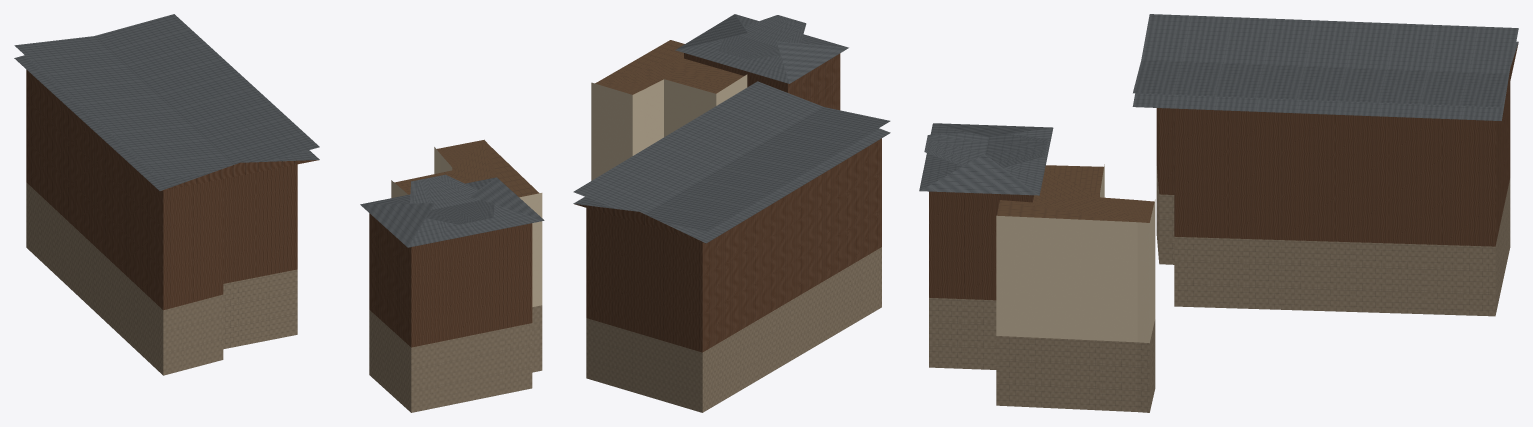
Rendered from bld_c33_-37_446.gltf.
3 renders of one model, left to right at view 1: azimuth 30°, elevation 25°; view 2: azimuth 150°, elevation 25°; view 3: azimuth 270°, elevation 25°, orthographic. The views are drawn at different scales.
Visible parts, largest first — view 1: bld_c33_-37_446; view 2: bld_c33_-37_446; view 3: bld_c33_-37_446.
Part boxes in pixels (x1=…): bld_c33_-37_446: x1=14, y1=14, x2=544, y2=412; bld_c33_-37_446: x1=573, y1=14, x2=890, y2=412; bld_c33_-37_446: x1=919, y1=14, x2=1518, y2=412.
Bounding box in the file's own units: 26.51 × 16.8 × 39.72.
Materials: 7 (7 with a texture image).
